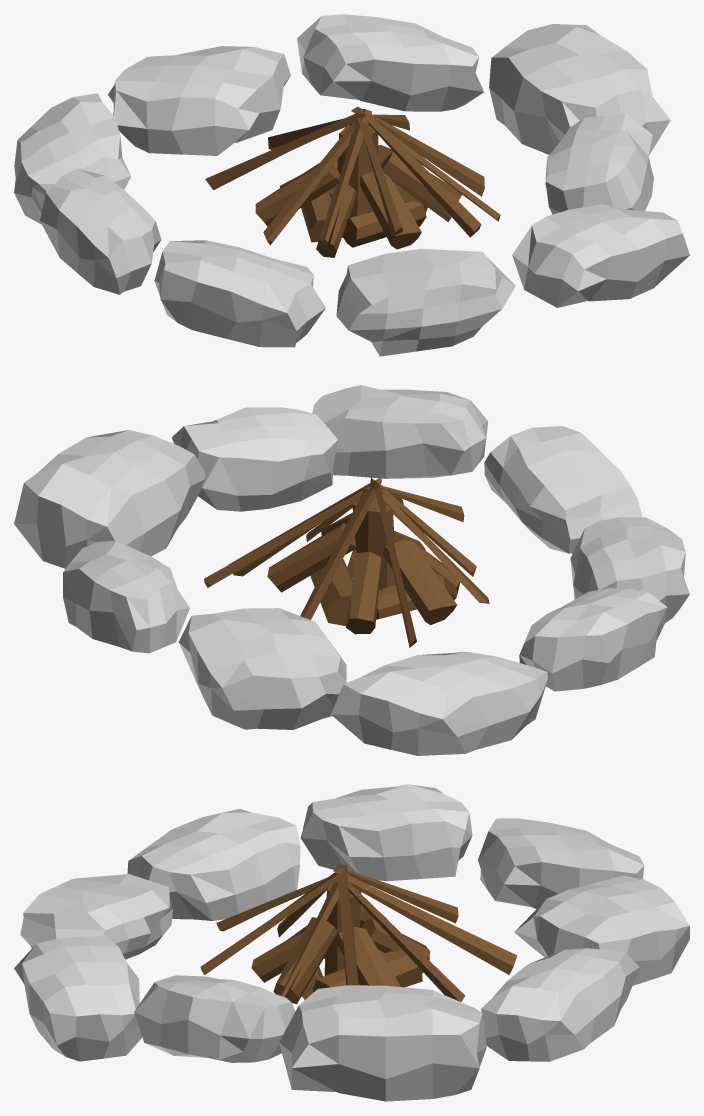
Rendered from Fire Pit.fbx.
The picture shows the model from 3 angles, top to bottom: view 1: azimuth 30°, elevation 25°; view 2: azimuth 150°, elevation 25°; view 3: azimuth 270°, elevation 25°; orthographic projection. The views are drawn at different scales.
Visible parts, largest first — view 1: Cube; view 2: Cube; view 3: Cube.
Part boxes in pixels (x1,y1,x2,y2): Cube: [14, 14, 689, 356]; Cube: [14, 385, 689, 755]; Cube: [14, 784, 689, 1101].
Bounding box in the file's own units: 549 × 121 × 567.
